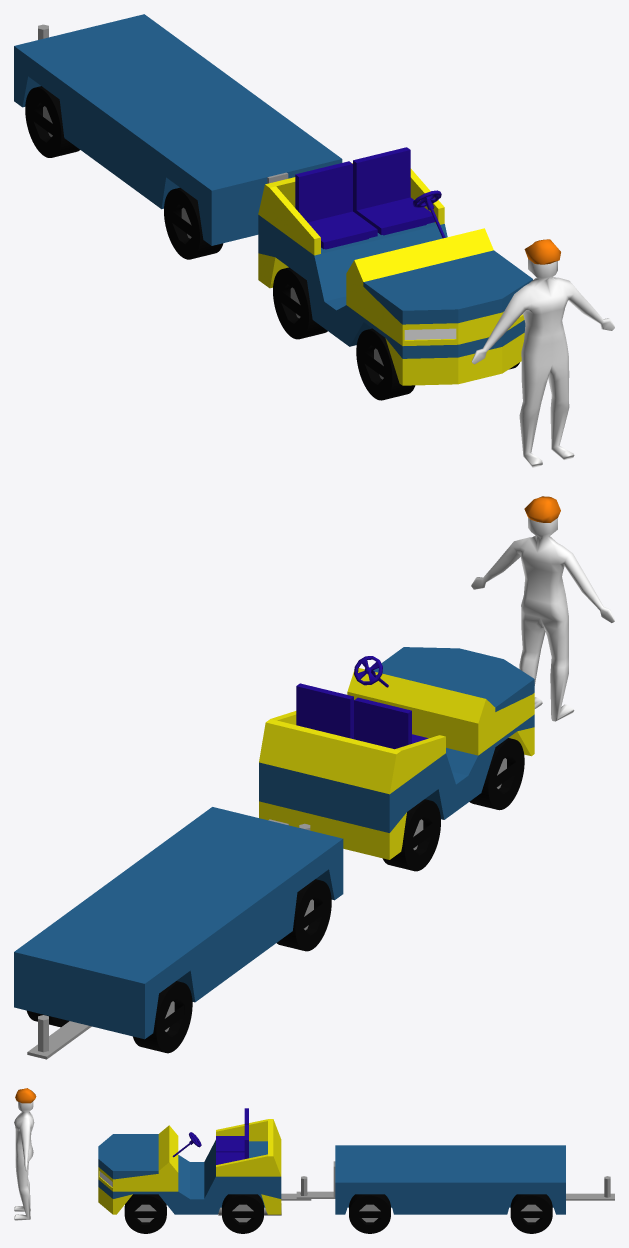
The model's file is ScaleRef.fbx.
3 views of the same model, one above another, from view 1: azimuth 30°, elevation 25°; view 2: azimuth 150°, elevation 25°; view 3: azimuth 270°, elevation 25° (orthographic). The views are drawn at different scales.
Parts seen in each view (by area): view 1: FrontGrill, FrontRightWheel, RagDoll1; view 2: FrontRightWheel, FrontGrill, RagDoll1; view 3: FrontRightWheel, FrontGrill, RagDoll1.
Part boxes in pixels (left/top/right/bottom): FrontGrill: left=258, top=147, right=532, bottom=400; FrontRightWheel: left=14, top=14, right=342, bottom=259; RagDoll1: left=471, top=239, right=614, bottom=467; FrontRightWheel: left=14, top=807, right=343, bottom=1059; FrontGrill: left=259, top=647, right=534, bottom=871; RagDoll1: left=471, top=496, right=614, bottom=721; FrontRightWheel: left=296, top=1145, right=614, bottom=1233; FrontGrill: left=98, top=1108, right=311, bottom=1233; RagDoll1: left=14, top=1088, right=36, bottom=1220.
Size of the model in its own units: 71.89 by 104 by 449.
3 materials, 3 textured.
